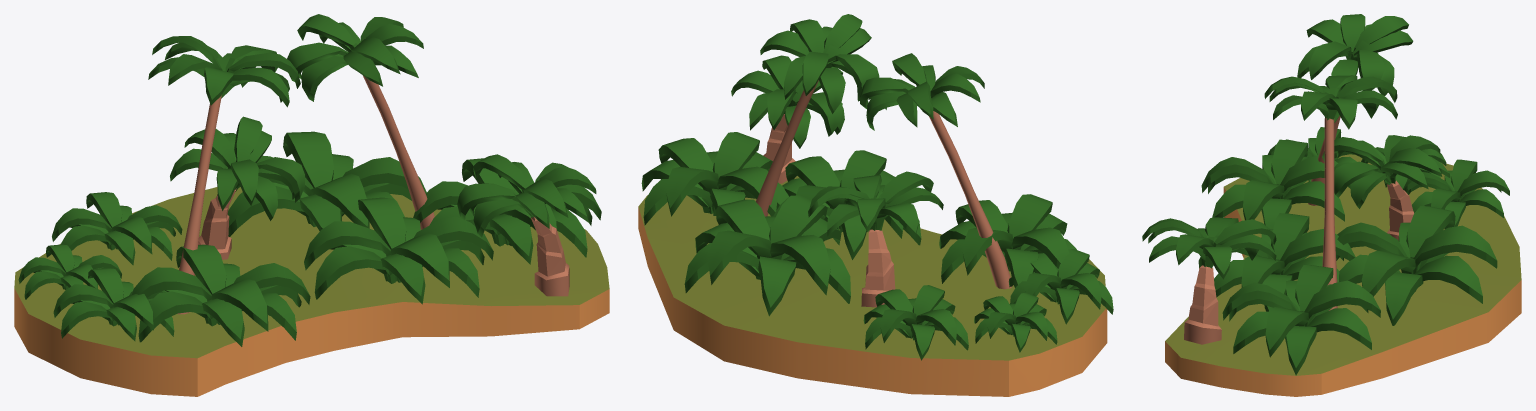
File: Wall v4.fbx
The picture shows the model from 3 angles, left to right: view 1: azimuth 30°, elevation 25°; view 2: azimuth 150°, elevation 25°; view 3: azimuth 270°, elevation 25°; orthographic projection. The views are drawn at different scales.
Parts seen in each view (by area): view 1: Wall v4; view 2: Wall v4; view 3: Wall v4.
Boxes of the visible parts, x1,y1,x2,y2 form: Wall v4: (14, 14, 609, 396); Wall v4: (638, 14, 1113, 396); Wall v4: (1142, 14, 1521, 396).
Size of the model in its own units: 13.21 by 6.67 by 9.62.
